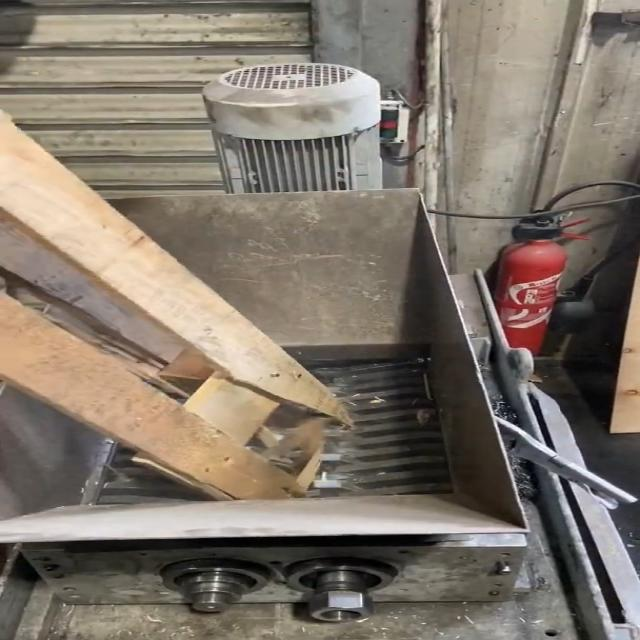Broyeur: (86, 329, 463, 511)
Palette: (0, 106, 358, 496)
